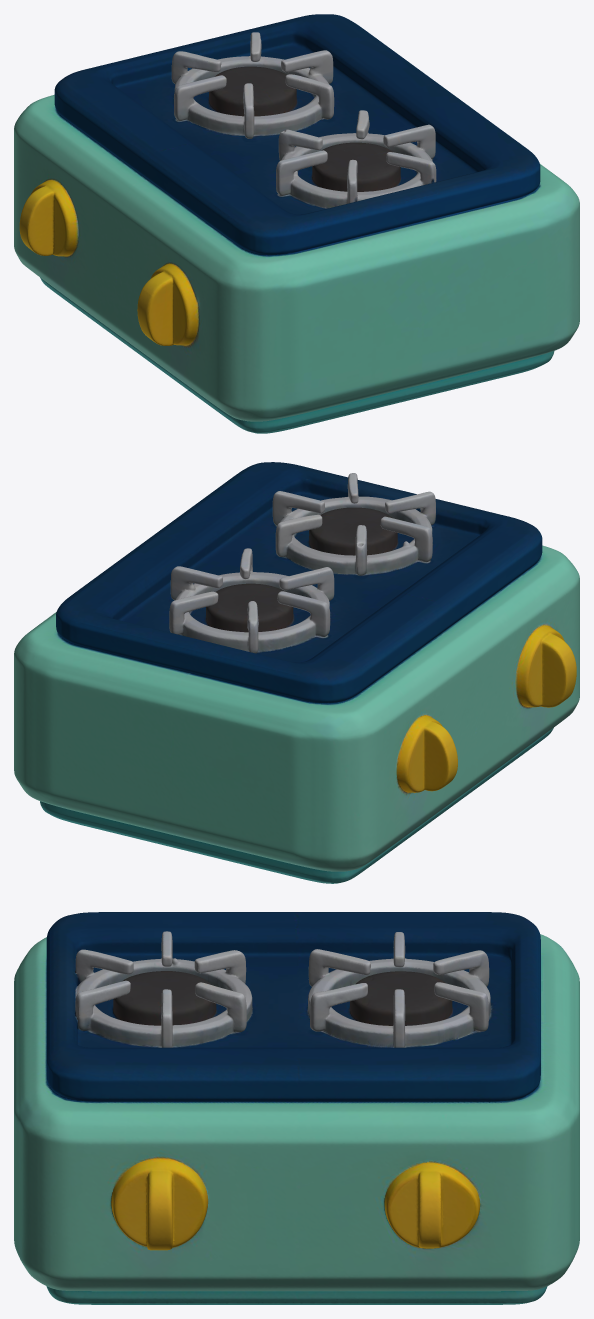
File: Mod_Burner.glb
3 views of the same model, one above another, from view 1: azimuth 30°, elevation 25°; view 2: azimuth 150°, elevation 25°; view 3: azimuth 270°, elevation 25° (orthographic). The views are drawn at different scales.
Parts seen in each view (by area): view 1: tripo_node_7935b8c9-bb35-411a-a606-d465f62e1a05; view 2: tripo_node_7935b8c9-bb35-411a-a606-d465f62e1a05; view 3: tripo_node_7935b8c9-bb35-411a-a606-d465f62e1a05.
Boxes of the visible parts, left/top/right/bottom form: tripo_node_7935b8c9-bb35-411a-a606-d465f62e1a05: left=14, top=14, right=579, bottom=433; tripo_node_7935b8c9-bb35-411a-a606-d465f62e1a05: left=14, top=462, right=579, bottom=883; tripo_node_7935b8c9-bb35-411a-a606-d465f62e1a05: left=14, top=912, right=579, bottom=1304.
Size of the model in its own units: 0.9995 by 0.5263 by 1.
Materials: 1 (1 with a texture image).
